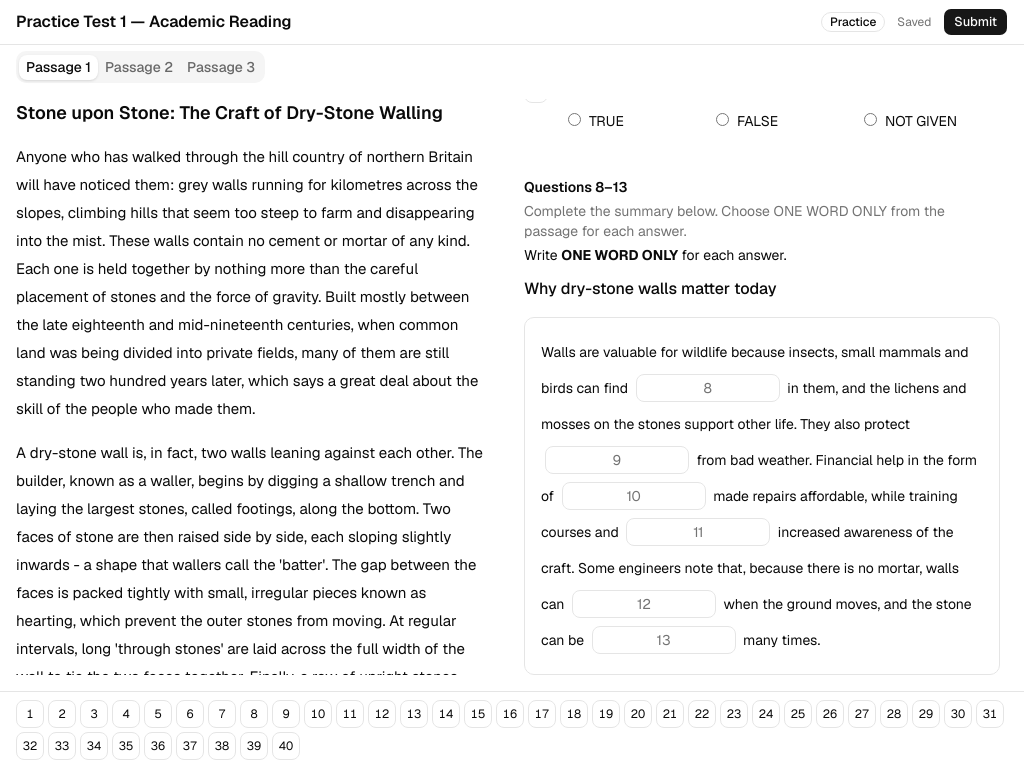
Test: submit flushes pending text first
(page scrolled)
In the field named "Question 8": (708, 388) [636,374,780,402], type "moss"
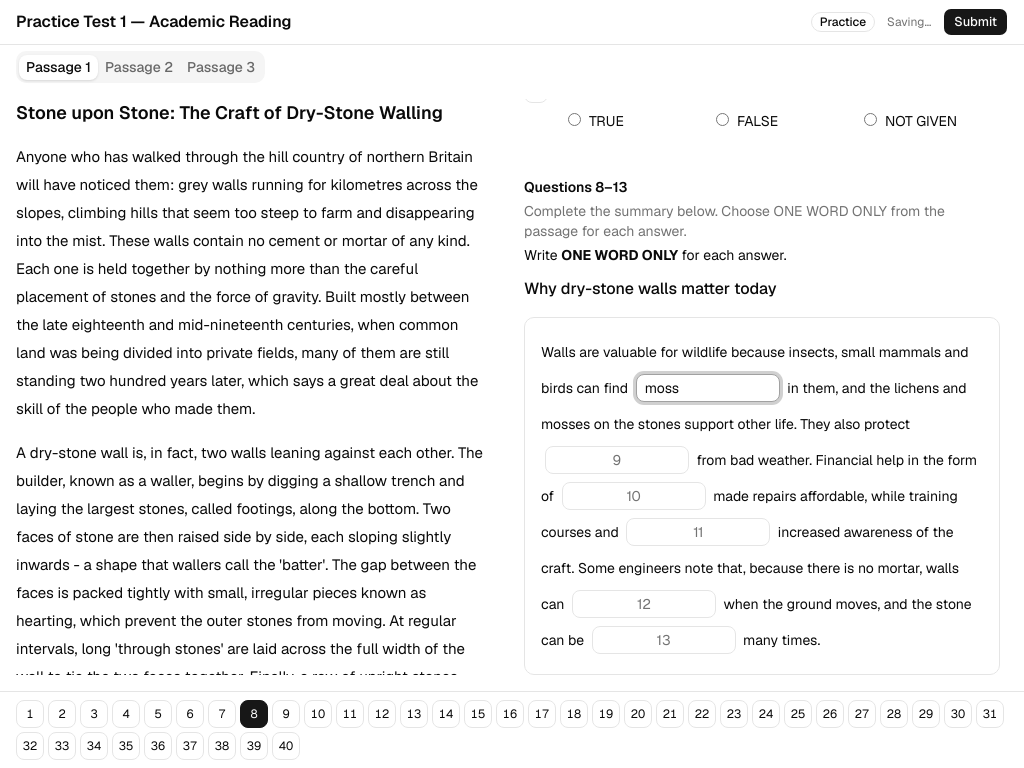
Click the button "Submit": (976, 22) [943,8,1008,36]
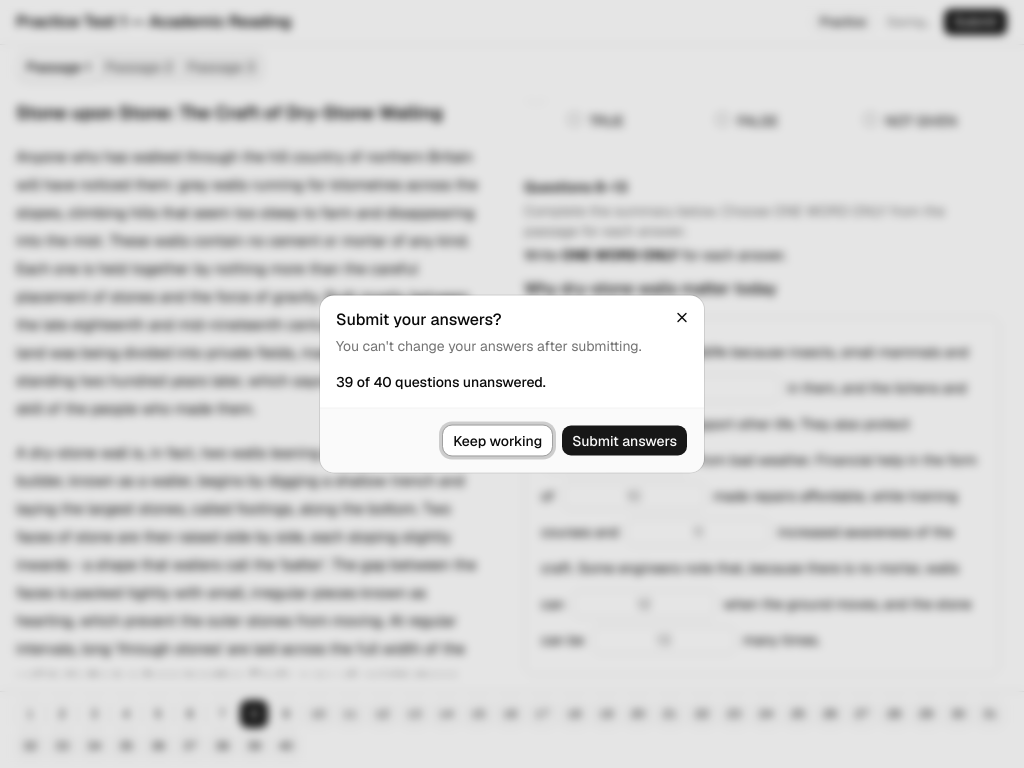
Click the button "Submit answers": (625, 440) [561,424,688,456]
(page scrolled)
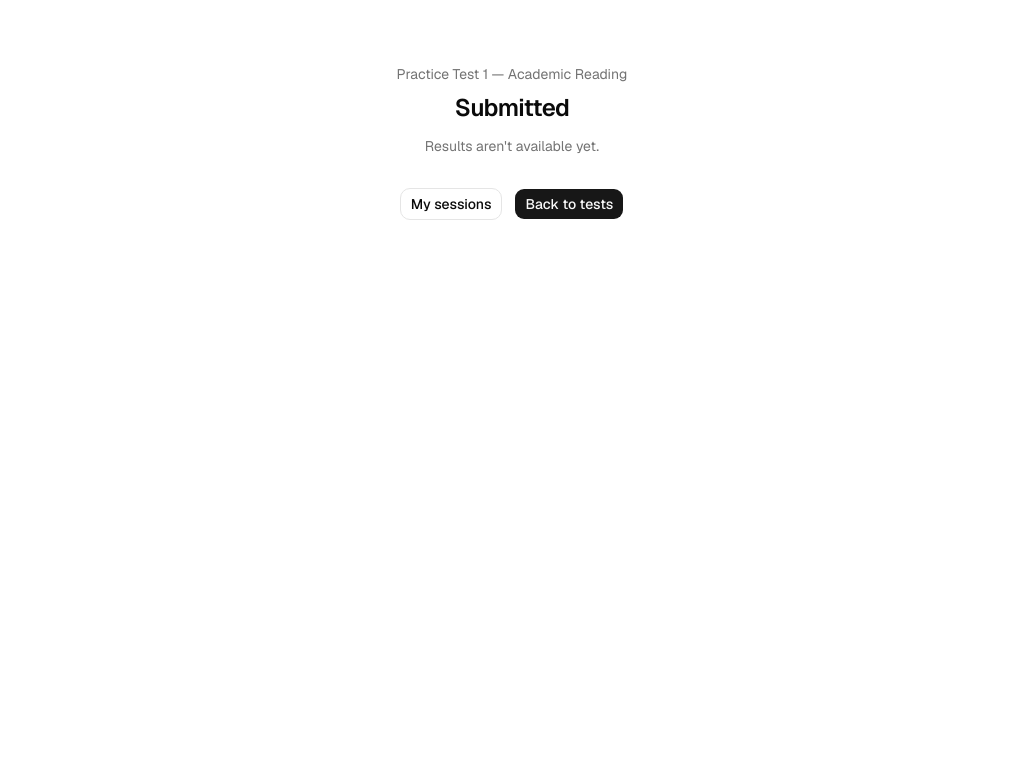
expect the heading "Submitted" is shown: met, box [455,92,569,123]
